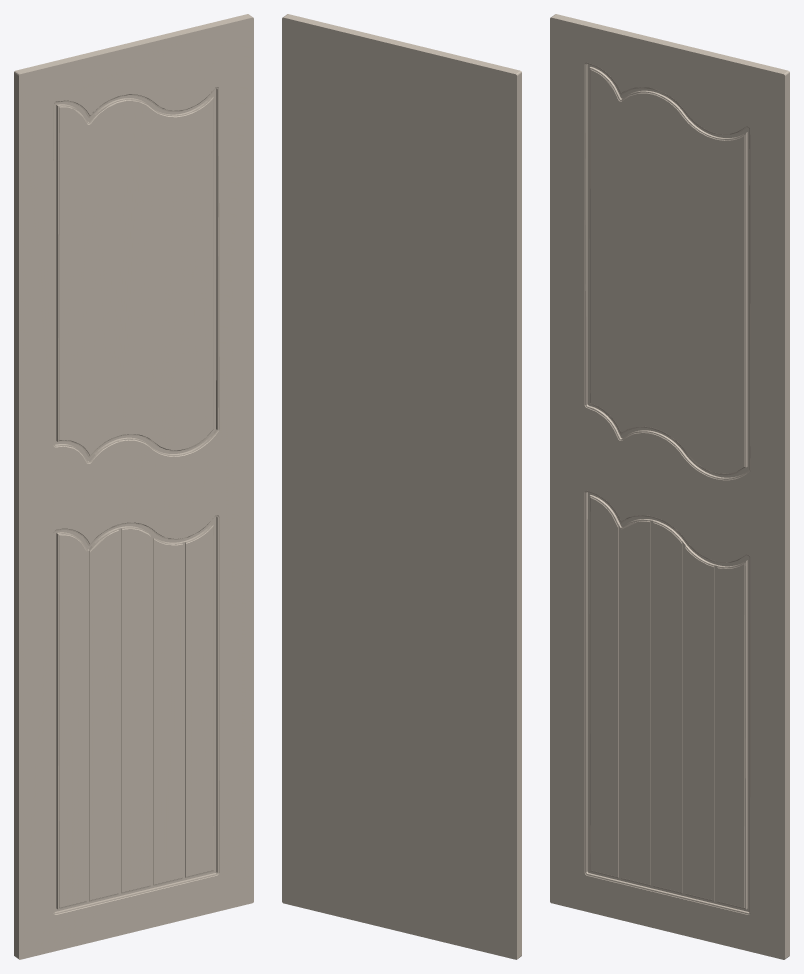
The model's file is NRD BOY KPK 11.glb.
3 renders of one model, left to right at view 1: azimuth 30°, elevation 25°; view 2: azimuth 150°, elevation 25°; view 3: azimuth 330°, elevation 25°, orthographic.
Parts seen in each view (by area): view 1: NRD BOY KPK 11; view 2: NRD BOY KPK 11; view 3: NRD BOY KPK 11.
Part boxes in pixels (x1,y1,x2,y2): NRD BOY KPK 11: [14, 14, 253, 959]; NRD BOY KPK 11: [282, 14, 521, 959]; NRD BOY KPK 11: [550, 14, 789, 959].
Bounding box in the file's own units: 0.4999 × 1.8 × 0.018.
